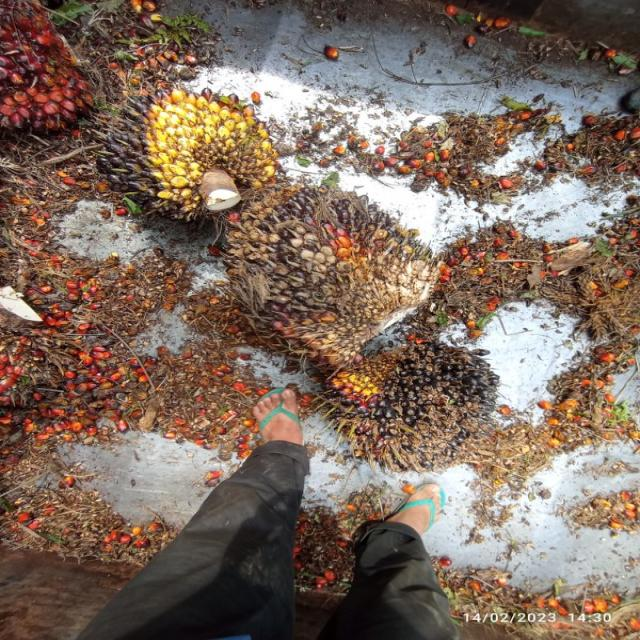fraksi 00: (230, 188, 433, 354), (319, 341, 515, 468), (96, 88, 286, 218)
